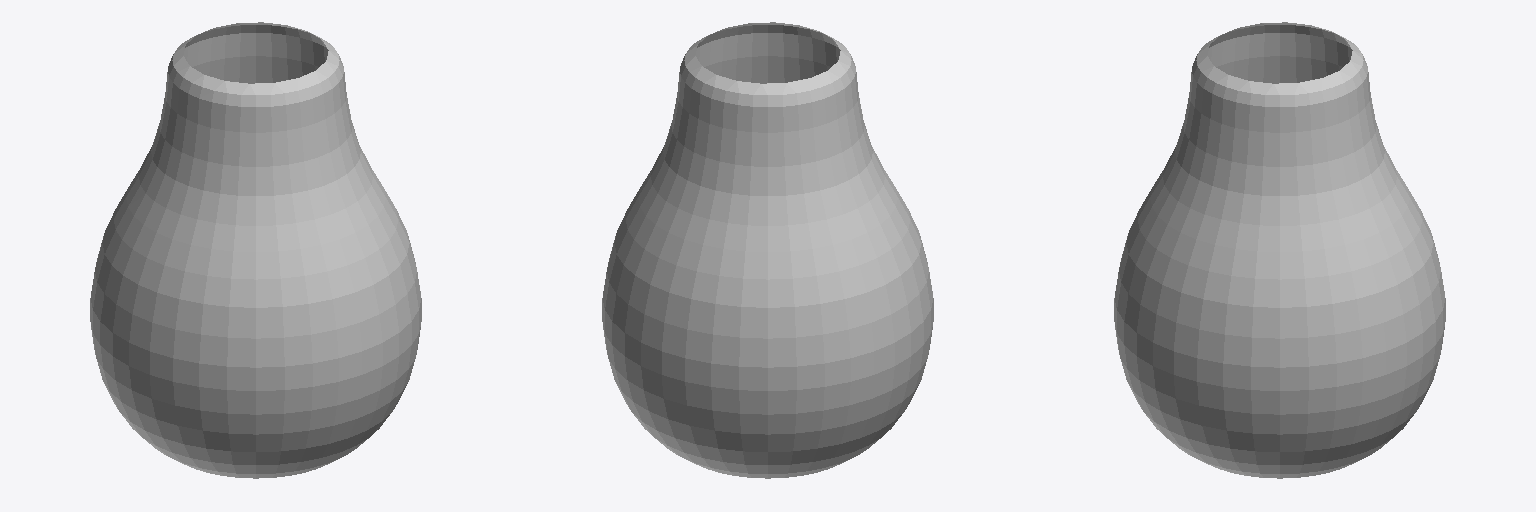
File: FOCO_VACIO.obj
3 renders of one model, left to right at view 1: azimuth 30°, elevation 25°; view 2: azimuth 150°, elevation 25°; view 3: azimuth 270°, elevation 25°, orthographic.
Visible parts, largest first — view 1: FOCOS; view 2: FOCOS; view 3: FOCOS.
Boxes of the visible parts, x1=… form: FOCOS: x1=90, y1=22, x2=421, y2=478; FOCOS: x1=602, y1=22, x2=933, y2=478; FOCOS: x1=1114, y1=22, x2=1445, y2=478.
Bounding box in the file's own units: 0.095 × 0.1284 × 0.095.